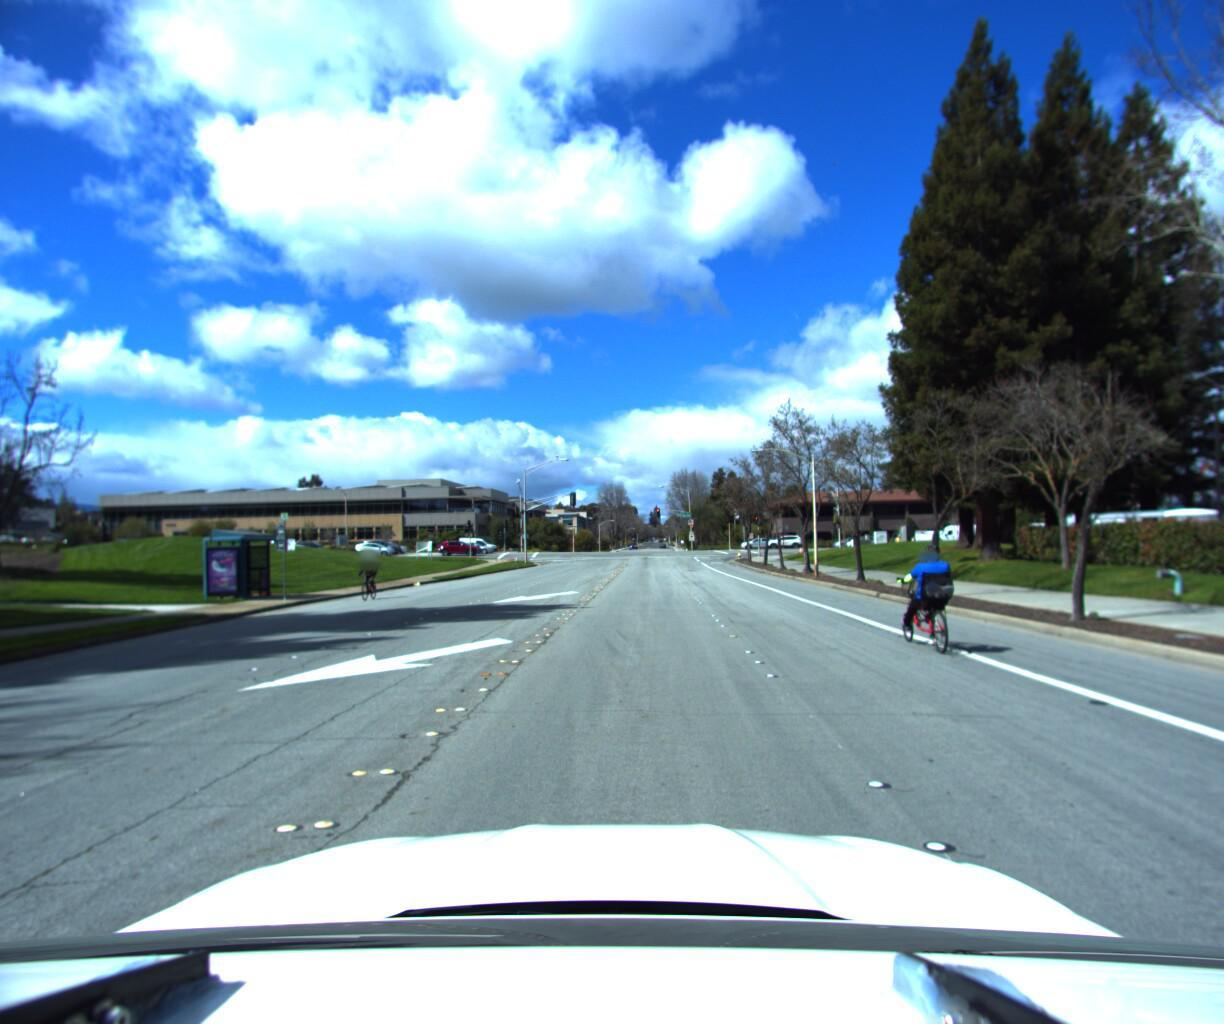bicycle: (879, 538, 972, 657), (349, 558, 387, 606)
